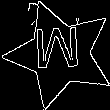M_S: (35, 27, 85, 81)
